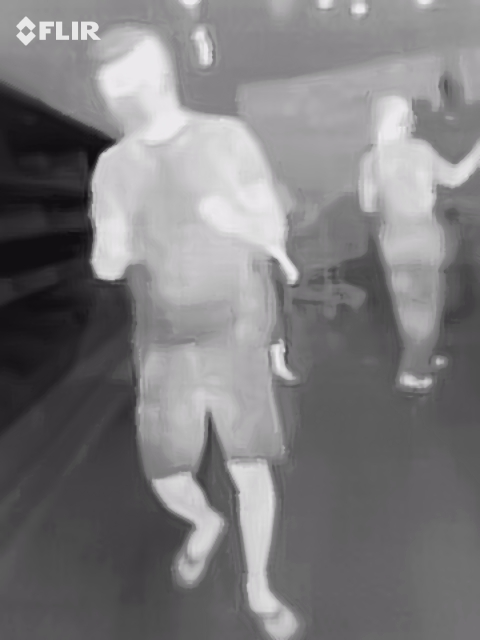head: (86, 21, 173, 138), (368, 90, 419, 139)
